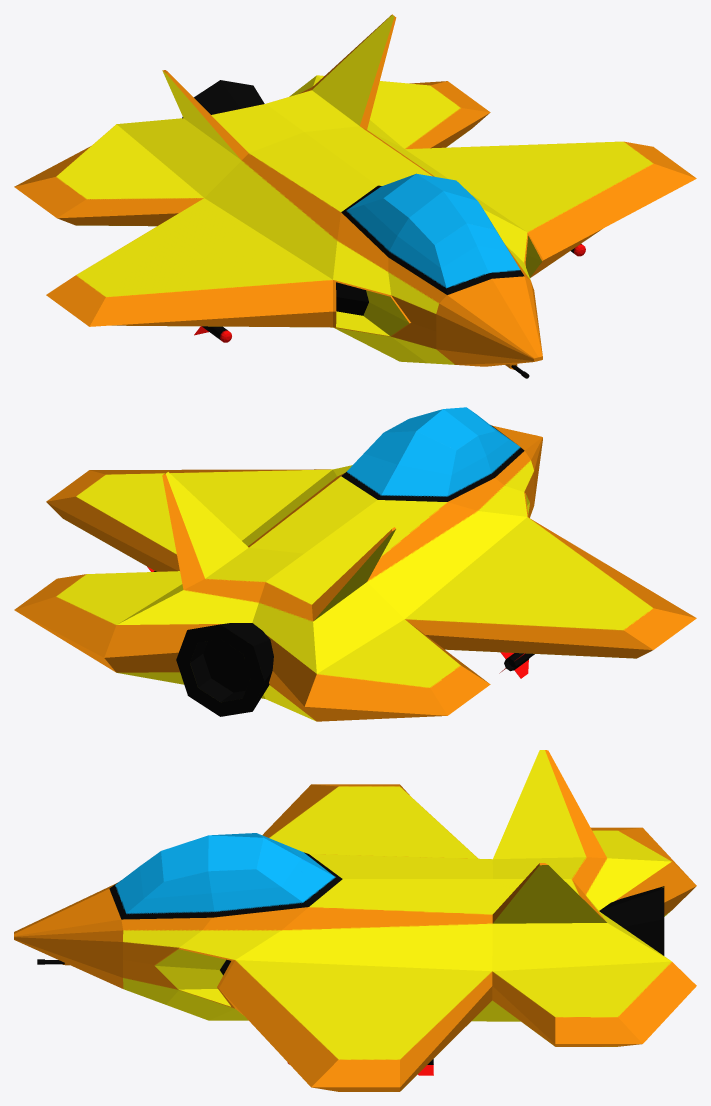
The model's file is SweetBird.fbx.
The picture shows the model from 3 angles, top to bottom: view 1: azimuth 30°, elevation 25°; view 2: azimuth 150°, elevation 25°; view 3: azimuth 270°, elevation 25°; orthographic projection. The views are drawn at different scales.
Parts seen in each view (by area): view 1: Body_Unwrapped, Thruster_Unwrapped; view 2: Body_Unwrapped, Thruster_Unwrapped, Missile2_Unwrapped; view 3: Body_Unwrapped, Thruster_Unwrapped.
Part boxes in pixels (bbox=[...]): Body_Unwrapped: bbox=[14, 14, 696, 366]; Thruster_Unwrapped: bbox=[182, 80, 264, 118]; Body_Unwrapped: bbox=[14, 407, 696, 721]; Thruster_Unwrapped: bbox=[176, 623, 273, 716]; Missile2_Unwrapped: bbox=[499, 652, 534, 678]; Body_Unwrapped: bbox=[14, 750, 696, 1091]; Thruster_Unwrapped: bbox=[599, 886, 664, 955].
Bounding box in the file's own units: 563 × 167 × 536.
